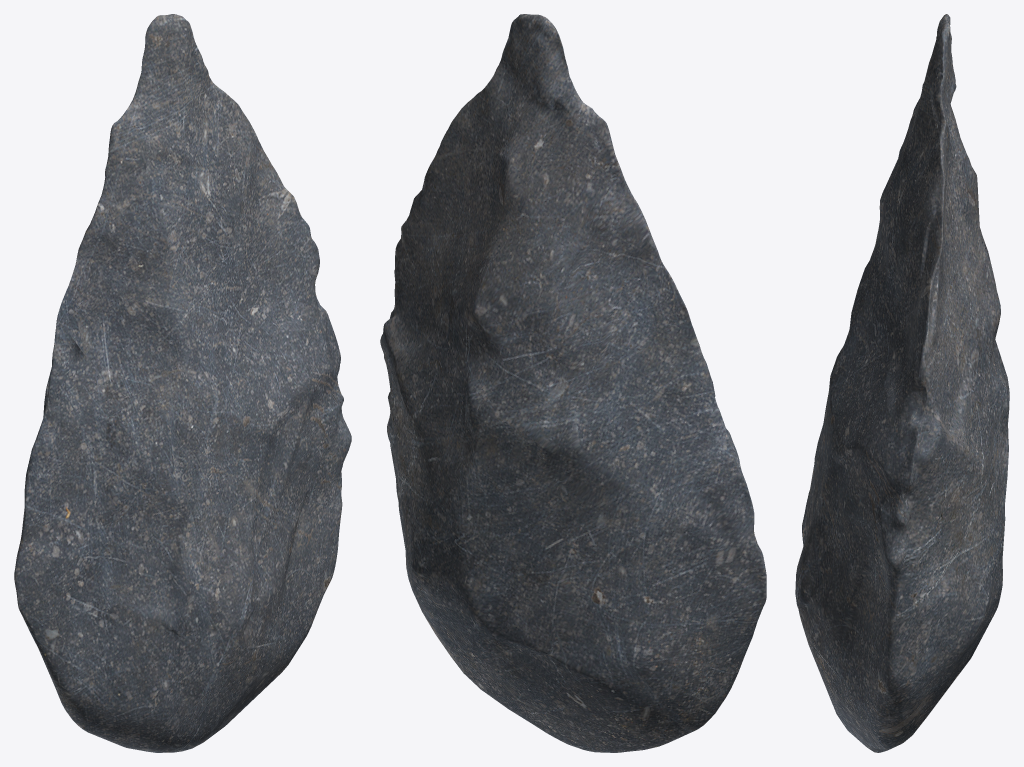
The model's file is spearhead.glb.
3 views of the same model, side by side, from view 1: azimuth 30°, elevation 25°; view 2: azimuth 150°, elevation 25°; view 3: azimuth 270°, elevation 25° (orthographic). The views are drawn at different scales.
Visible parts, largest first — view 1: default_Material #1_0; view 2: default_Material #1_0; view 3: default_Material #1_0.
Part boxes in pixels (box(x1,y1,x2,y2)): default_Material #1_0: box(14, 14, 351, 752); default_Material #1_0: box(380, 14, 766, 752); default_Material #1_0: box(795, 14, 1009, 752).
Size of the model in its own units: 66.24 by 130 by 34.3.
Materials: 1 (1 with a texture image).
